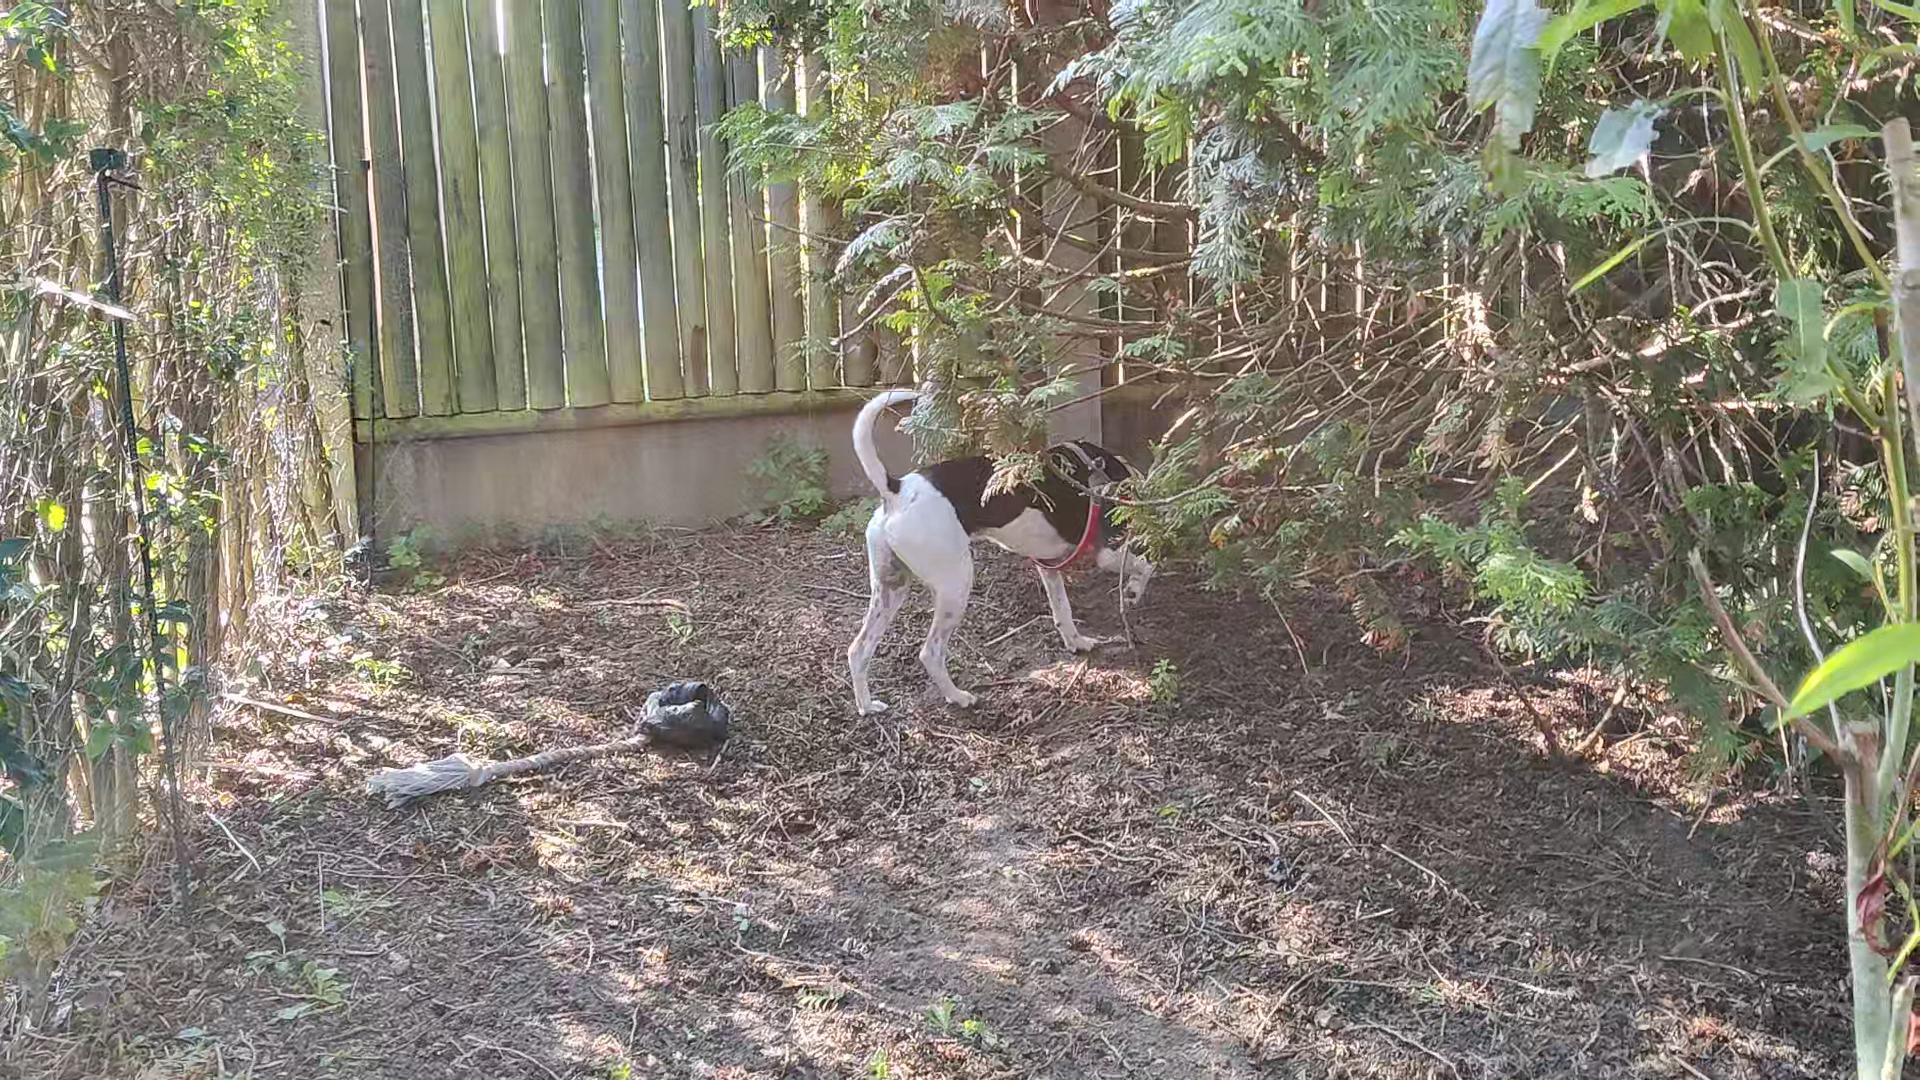Dog: (833, 380, 1189, 723)
